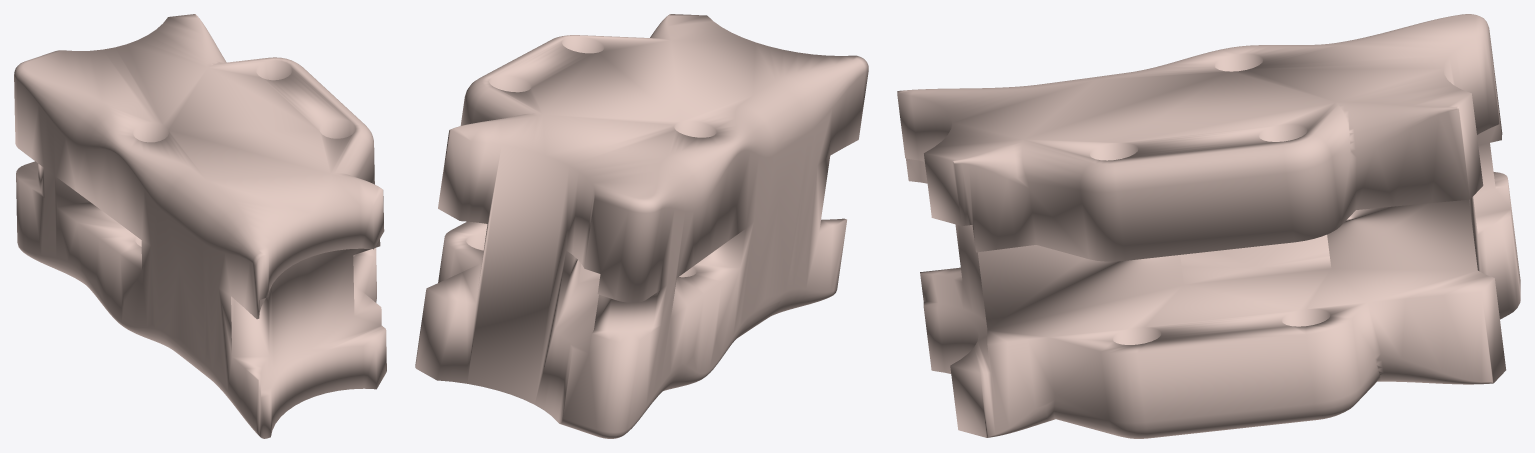
File: ring_mlp_1.obj
The picture shows the model from 3 angles, left to right: view 1: azimuth 30°, elevation 25°; view 2: azimuth 150°, elevation 25°; view 3: azimuth 270°, elevation 25°; orthographic projection. The views are drawn at different scales.
Bounding box in the file's own units: 15.11 × 15.3 × 25.22.
